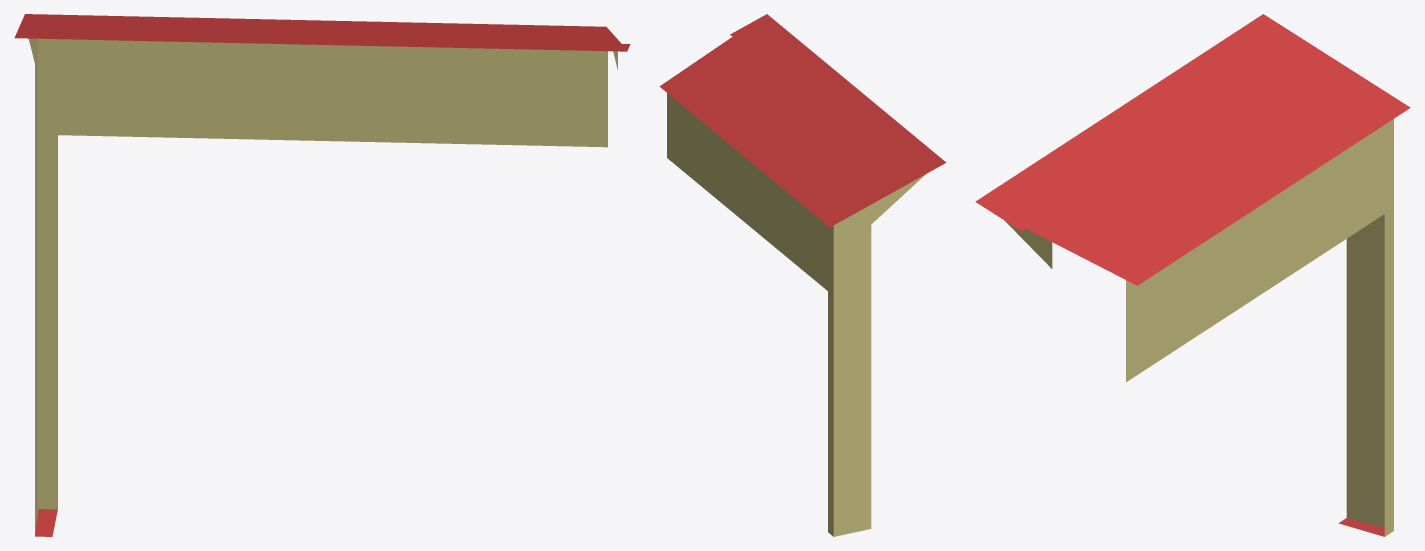
The picture shows the model from 3 angles, left to right: view 1: azimuth 30°, elevation 25°; view 2: azimuth 150°, elevation 25°; view 3: azimuth 270°, elevation 25°; orthographic projection. The views are drawn at different scales.
Bounding box in the file's own units: 10.56 × 8.9 × 10.71.
